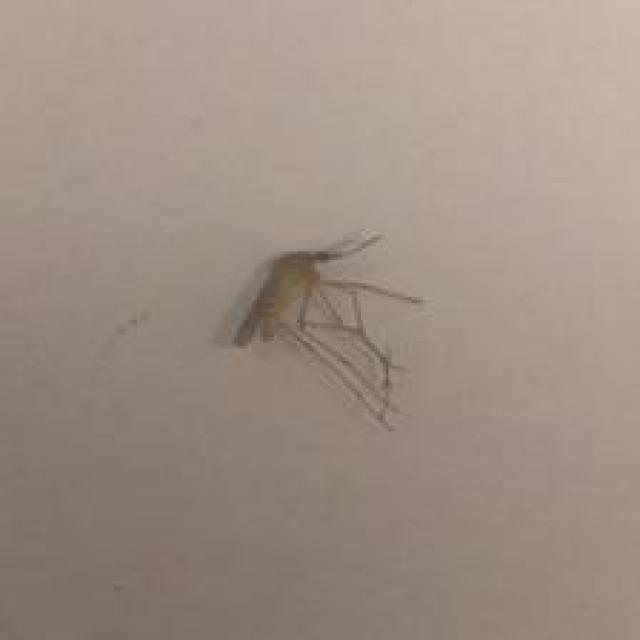Culex: (223, 227, 426, 433)
